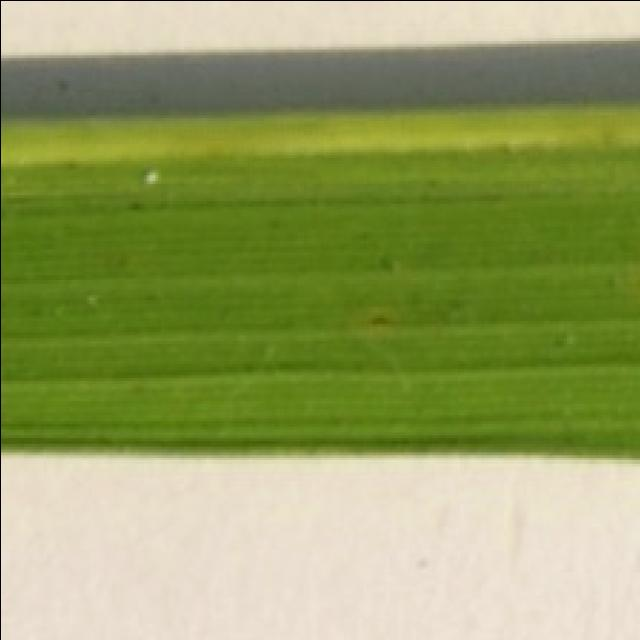Unhealthy: (366, 310, 394, 326)
